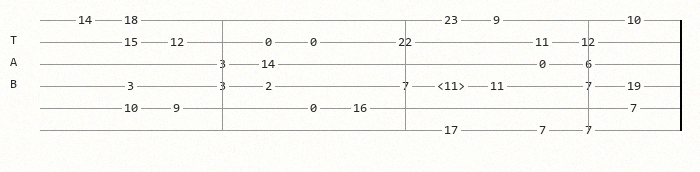0: (265, 36, 276, 48), (310, 36, 321, 48), (310, 102, 321, 114), (539, 58, 550, 70)
10: (124, 102, 142, 114), (627, 14, 645, 26)
11: (490, 80, 508, 92), (535, 36, 553, 48)
12: (170, 36, 188, 48), (581, 36, 599, 48)
14: (78, 14, 96, 26), (261, 58, 279, 70)
15: (124, 36, 142, 48)
16: (353, 102, 371, 114)
17: (444, 124, 462, 136)
18: (124, 14, 142, 26)
19: (627, 80, 645, 92)
2: (265, 80, 276, 92)
22: (398, 36, 416, 48)
23: (444, 14, 462, 26)
3: (127, 80, 138, 92), (219, 80, 230, 92), (219, 58, 230, 70)
6: (585, 58, 596, 70)
7: (402, 80, 413, 92), (539, 124, 550, 136), (585, 124, 596, 136), (585, 80, 596, 92), (630, 102, 641, 114)
9: (173, 102, 184, 114), (493, 14, 504, 26)
harmonic: (437, 80, 469, 92)
